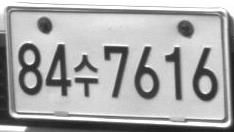1: (163, 46, 187, 100)
4: (44, 43, 72, 96)
6: (191, 46, 218, 101), (134, 45, 159, 99)
7: (103, 45, 129, 98)
8: (17, 42, 43, 96)
수: (73, 54, 98, 97)
